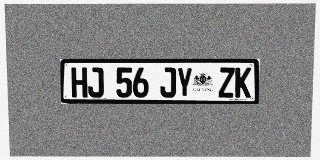5: (116, 67, 132, 97)
6: (133, 67, 149, 98)
H: (71, 67, 87, 97)
J: (87, 67, 104, 97), (160, 67, 176, 98)
K: (235, 67, 251, 98)
Y: (176, 67, 192, 98)
Z: (218, 67, 235, 98)
